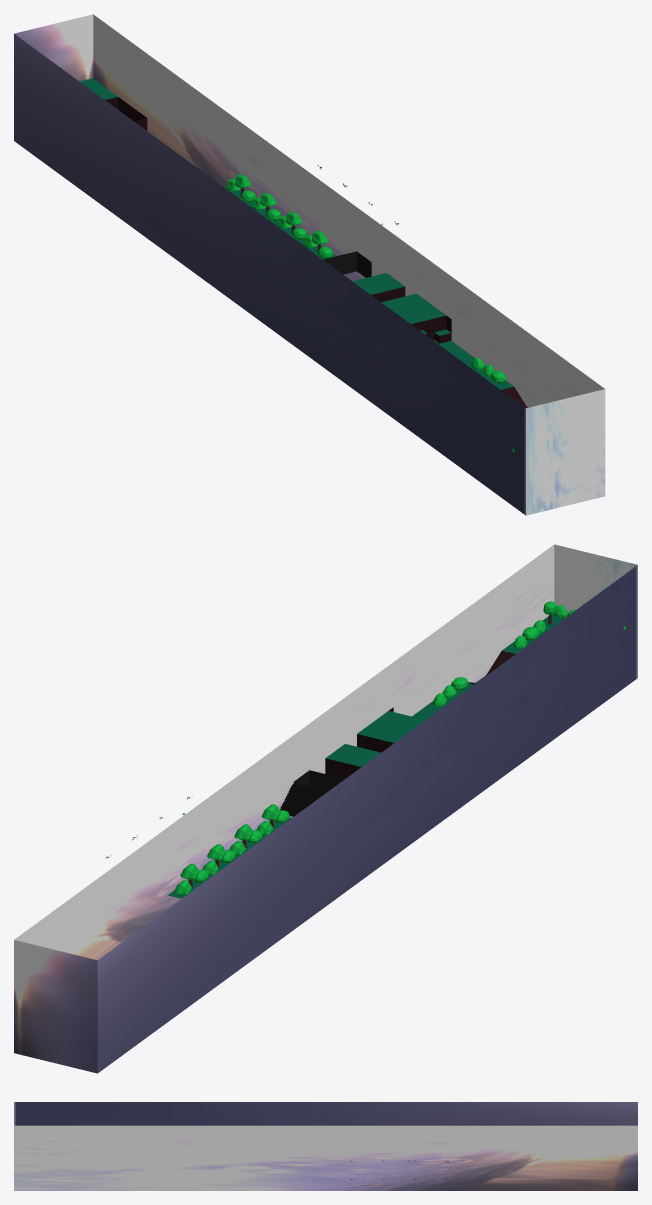
The model's file is Level1World.glb.
The picture shows the model from 3 angles, top to bottom: view 1: azimuth 30°, elevation 25°; view 2: azimuth 150°, elevation 25°; view 3: azimuth 270°, elevation 25°; orthographic projection. The views are drawn at different scales.
Parts seen in each view (by area): view 1: Walls, Floor; view 2: Walls, Floor; view 3: Walls.
Boxes of the visible parts, x1,y1,x2,y2 form: Walls: (14, 14, 605, 515); Floor: (80, 78, 527, 408); Walls: (14, 544, 637, 1073); Floor: (168, 614, 565, 898); Walls: (14, 1102, 637, 1190).
Bounding box in the file's own units: 39.14 × 26.44 × 228.
Materials: 8 (1 with a texture image).
